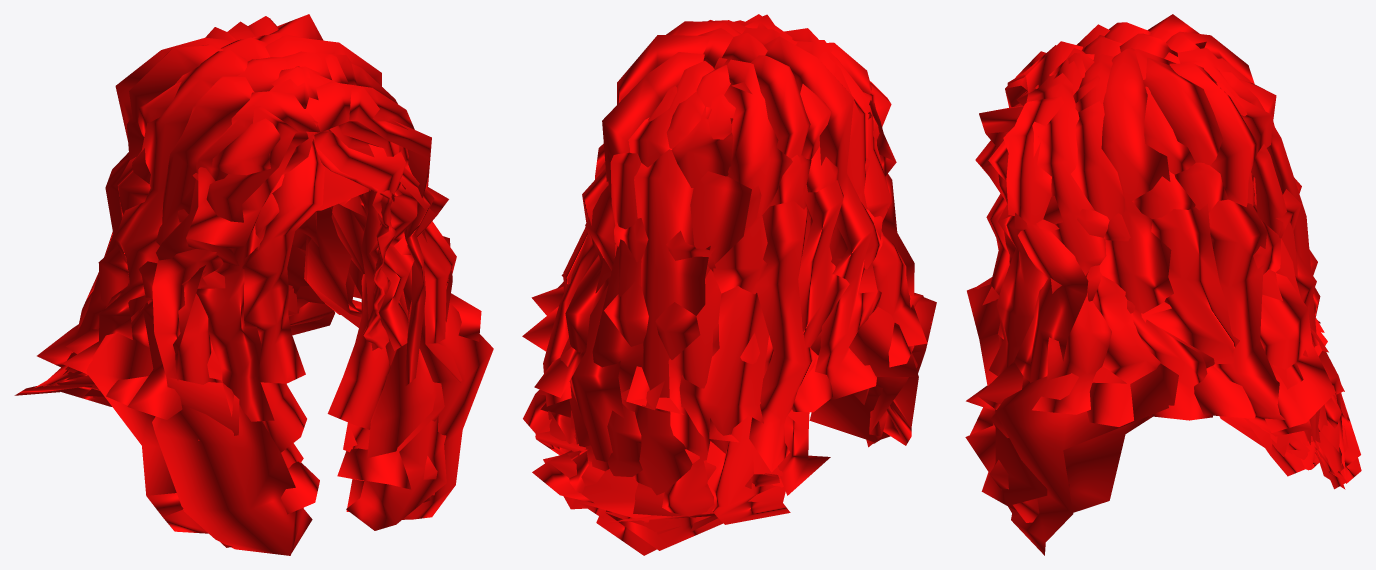
File: punkduck_alpha7_curly2_M.glb
3 views of the same model, side by side, from view 1: azimuth 30°, elevation 25°; view 2: azimuth 150°, elevation 25°; view 3: azimuth 270°, elevation 25° (orthographic). The views are drawn at different scales.
Bounding box in the file's own units: 0.3809 × 0.4749 × 0.3708.
Materials: 1 (1 with a texture image).
